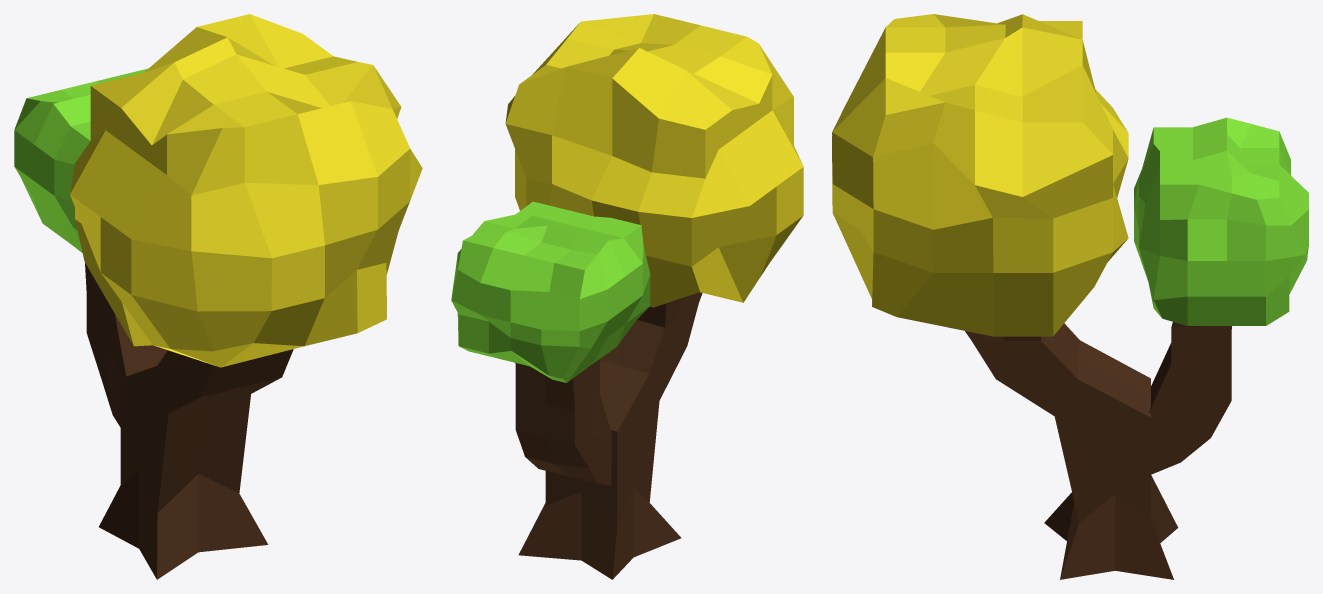
File: drzewko2 inne kolorki.fbx
3 views of the same model, side by side, from view 1: azimuth 30°, elevation 25°; view 2: azimuth 150°, elevation 25°; view 3: azimuth 270°, elevation 25° (orthographic). The views are drawn at different scales.
Visible parts, largest first — view 1: Cube.002, Cube, Cube.003, Cube.001; view 2: Cube.002, Cube.003, Cube, Cube.001; view 3: Cube.002, Cube.003, Cube, Cube.001.
Boxes of the visible parts, x1,y1,x2,y2 form: Cube.002: (70, 14, 422, 367); Cube: (99, 349, 293, 579); Cube.003: (14, 68, 148, 252); Cube.001: (85, 263, 167, 427); Cube.002: (505, 14, 803, 307); Cube.003: (451, 201, 650, 382); Cube: (518, 292, 702, 579); Cube.001: (515, 359, 611, 485); Cube.002: (832, 14, 1128, 336); Cube.003: (1134, 117, 1308, 325); Cube: (965, 323, 1178, 579); Cube.001: (1149, 322, 1231, 474).
Size of the model in its own units: 569 by 1001 by 826.
